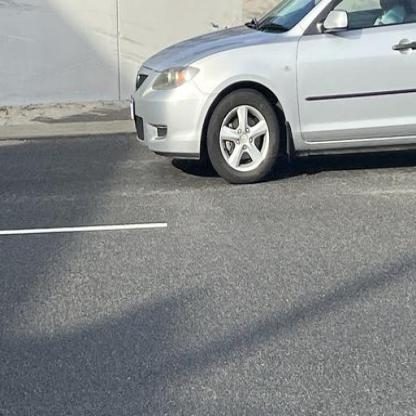Tire: (206, 87, 280, 185)
